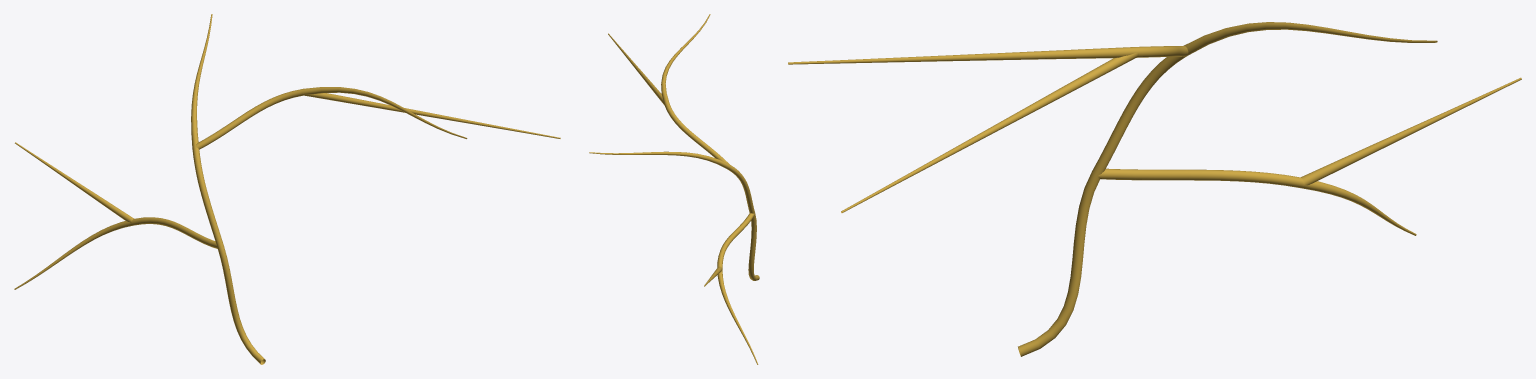
The picture shows the model from 3 angles, left to right: view 1: azimuth 30°, elevation 25°; view 2: azimuth 150°, elevation 25°; view 3: azimuth 270°, elevation 25°; orthographic projection. The views are drawn at different scales.
Parts seen in each view (by area): view 1: 右侧桡神经肌支; view 2: 右侧桡神经肌支; view 3: 右侧桡神经肌支.
Boxes of the visible parts, left/top/right/bottom form: 右侧桡神经肌支: left=14, top=14, right=560, bottom=364; 右侧桡神经肌支: left=589, top=14, right=759, bottom=364; 右侧桡神经肌支: left=788, top=22, right=1521, bottom=356.
Size of the model in its own units: 0.0913 by 0.0589 by 0.0989.
